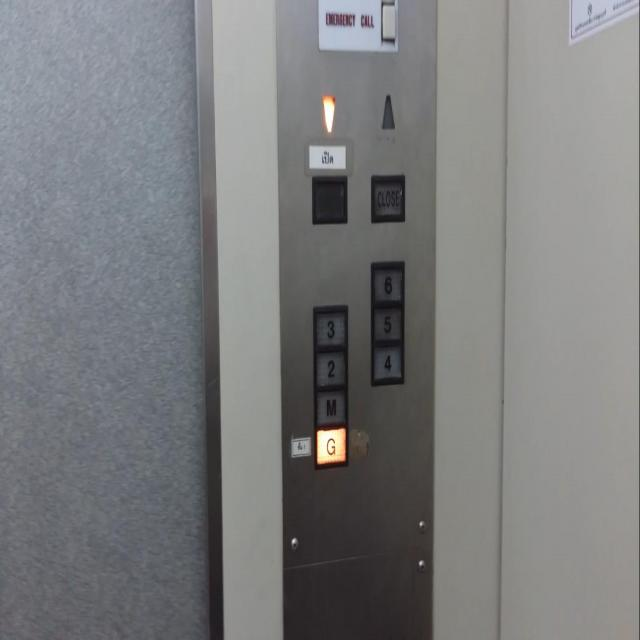2: (312, 346, 348, 386)
3: (312, 302, 348, 350)
4: (370, 340, 404, 387)
5: (370, 304, 404, 344)
6: (370, 259, 404, 305)
G: (314, 424, 347, 468)
M: (314, 386, 348, 426)
empty: (311, 174, 348, 224), (380, 1, 398, 44)
text: (370, 174, 405, 223)
